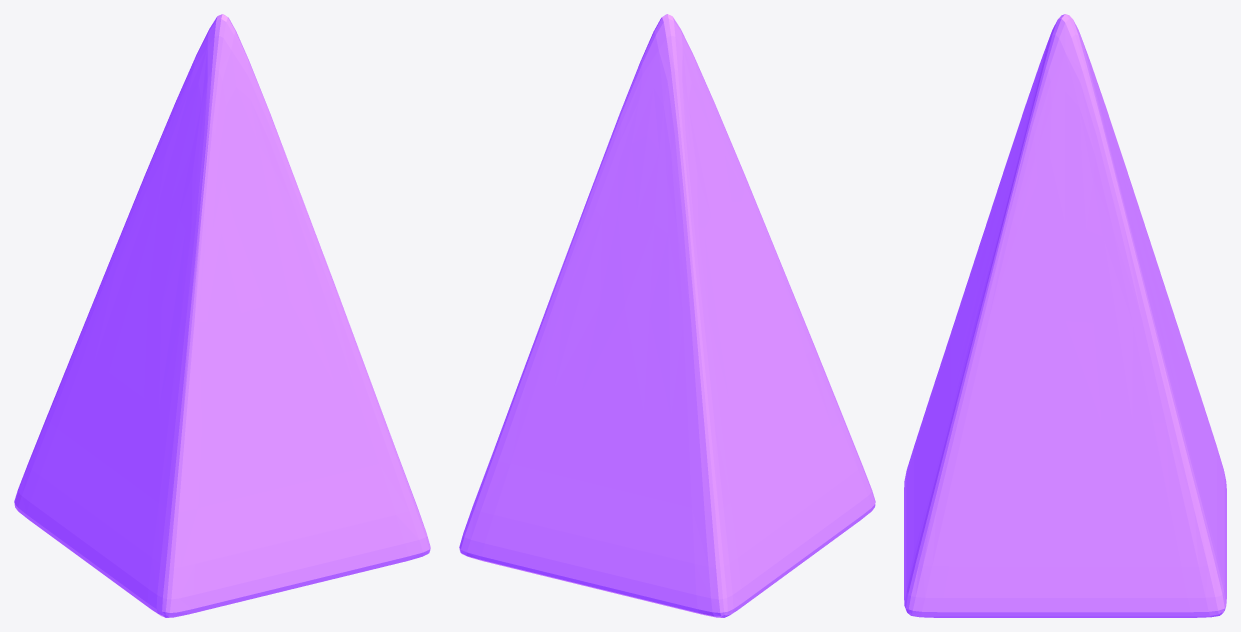
3 views of the same model, side by side, from view 1: azimuth 30°, elevation 25°; view 2: azimuth 150°, elevation 25°; view 3: azimuth 270°, elevation 25° (orthographic). The views are drawn at different scales.
Parts seen in each view (by area): view 1: Fulfillment; view 2: Fulfillment; view 3: Fulfillment.
Part boxes in pixels (x1,y1,x2,y2): Fulfillment: (14,14,430,617); Fulfillment: (459,14,875,617); Fulfillment: (904,14,1226,617).
Size of the model in its own units: 0.3007 by 0.5525 by 0.2998.
